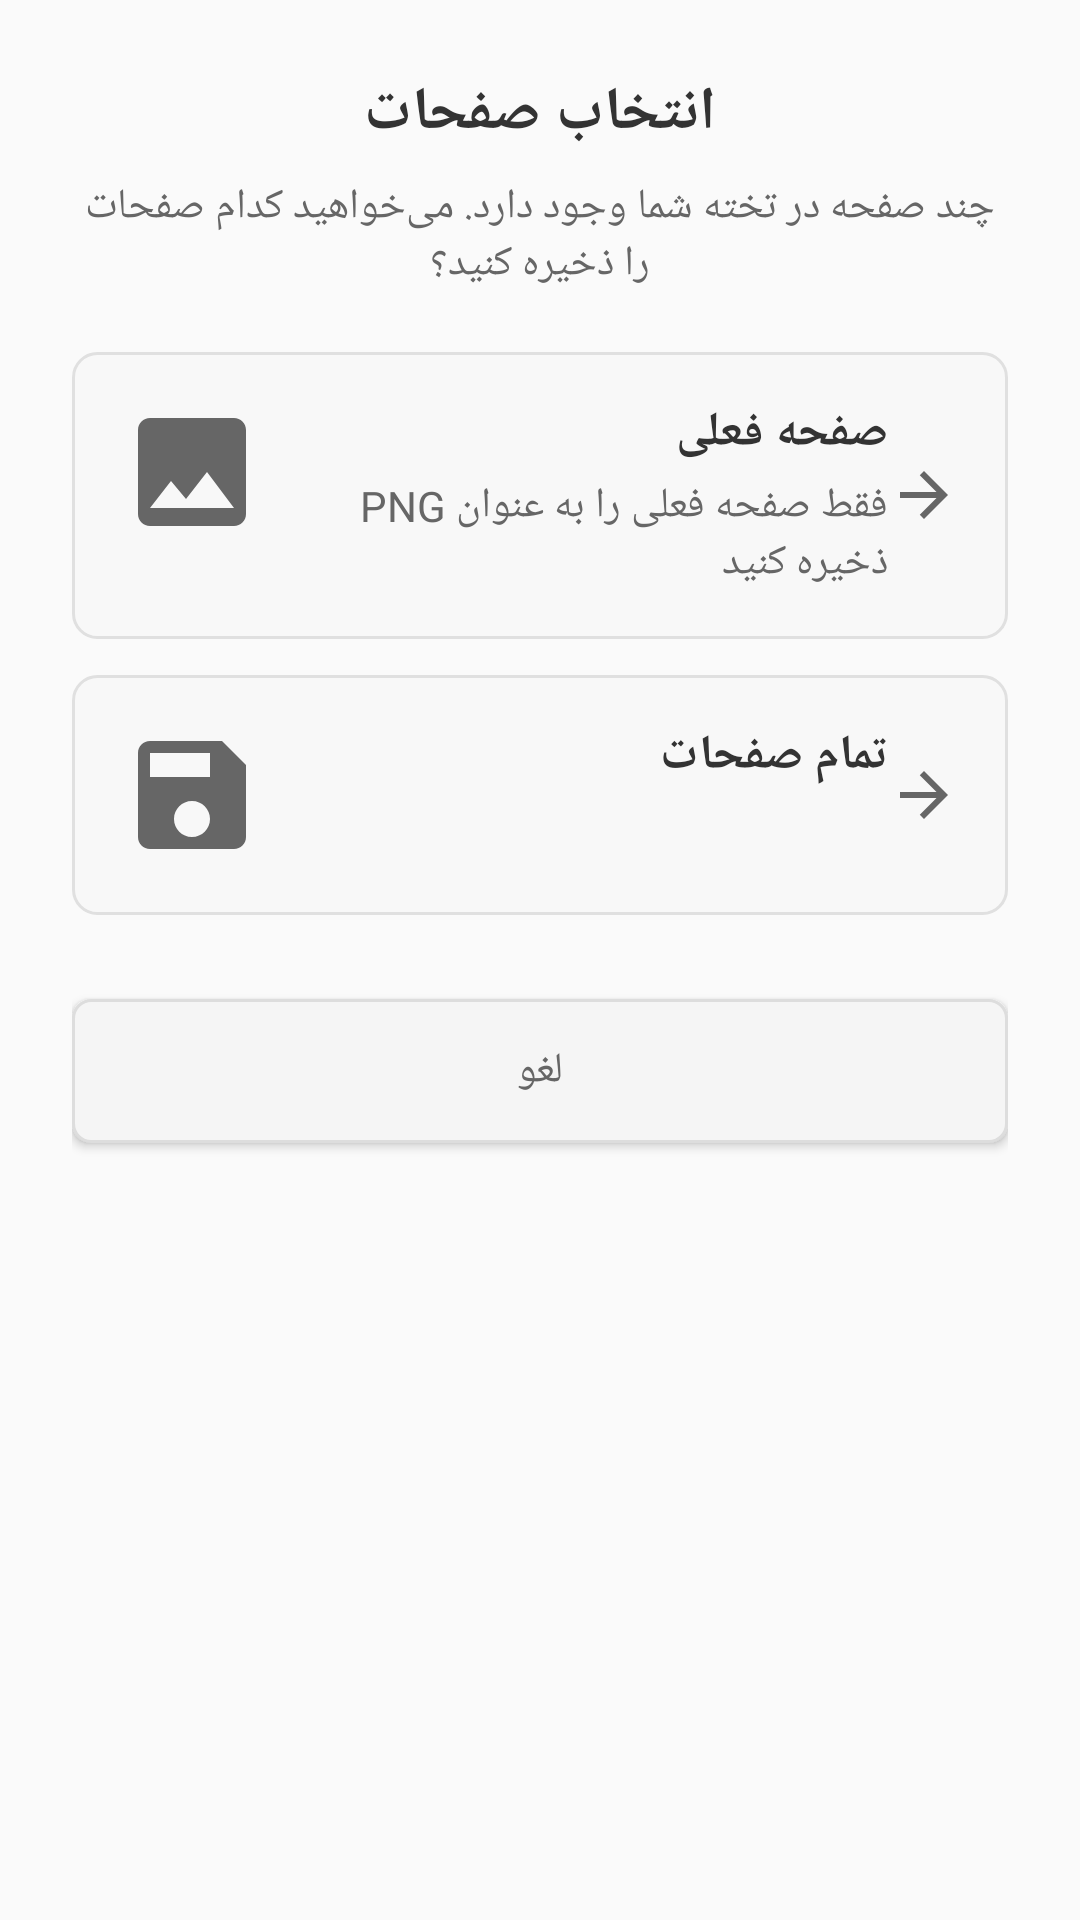

Locate icon controls on the screen. Image size 1080x1920, boxes as box(x1, y1, x2, y2).
arrow forward: box(900, 471, 948, 519), box(900, 771, 948, 819)
save: box(138, 741, 246, 849)
